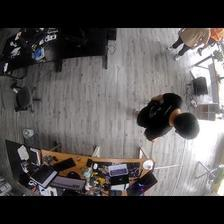normal: (138, 92, 200, 143)
